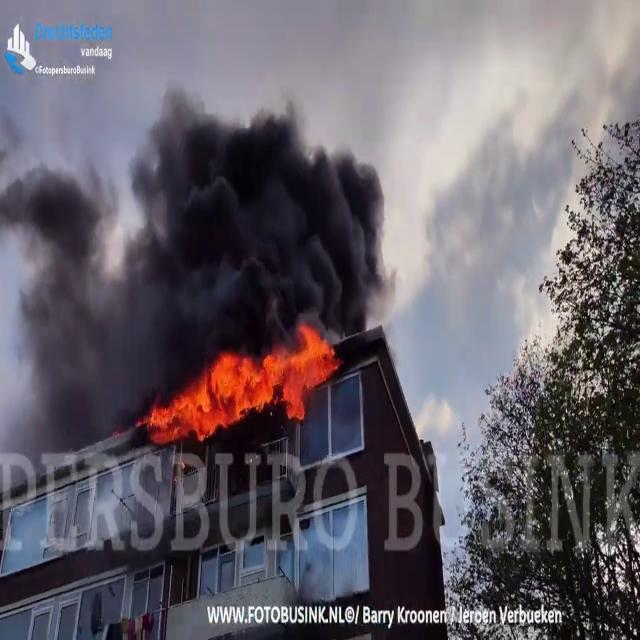Fire: (151, 335, 333, 437)
Smoke: (0, 70, 390, 372)
